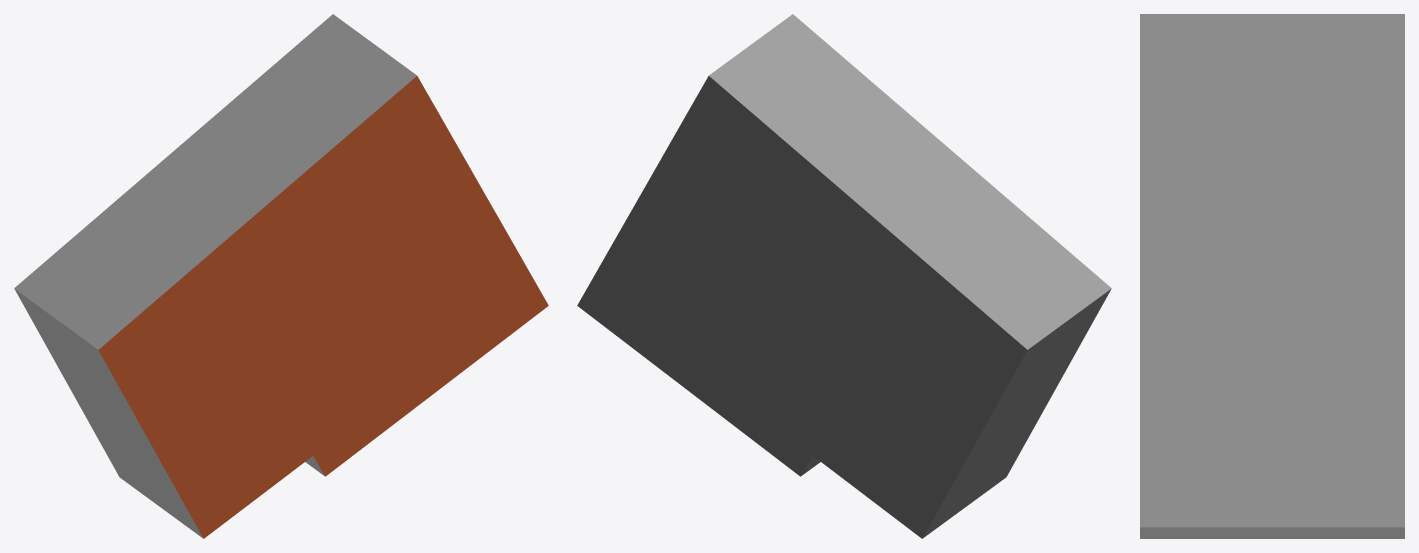
Rendered from construction_4815_assumed_A_Casa_h6m.obj.
The picture shows the model from 3 angles, left to right: view 1: azimuth 30°, elevation 25°; view 2: azimuth 150°, elevation 25°; view 3: azimuth 270°, elevation 25°; orthographic projection. The views are drawn at different scales.
Parts seen in each view (by area): view 1: construction_4815_assumed_A_Casa; view 2: construction_4815_assumed_A_Casa; view 3: construction_4815_assumed_A_Casa.
Boxes of the visible parts, x1,y1,x2,y2 form: construction_4815_assumed_A_Casa: [14, 14, 548, 538]; construction_4815_assumed_A_Casa: [577, 14, 1111, 538]; construction_4815_assumed_A_Casa: [1140, 14, 1404, 538].
Bounding box in the file's own units: 18.53 × 16.16 × 6.
